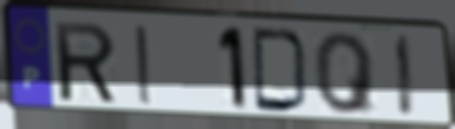1: (215, 25, 250, 114)
D: (249, 25, 313, 116)
I: (393, 31, 417, 121), (132, 23, 156, 108)
Q: (311, 30, 380, 117)
R: (51, 19, 120, 106)
